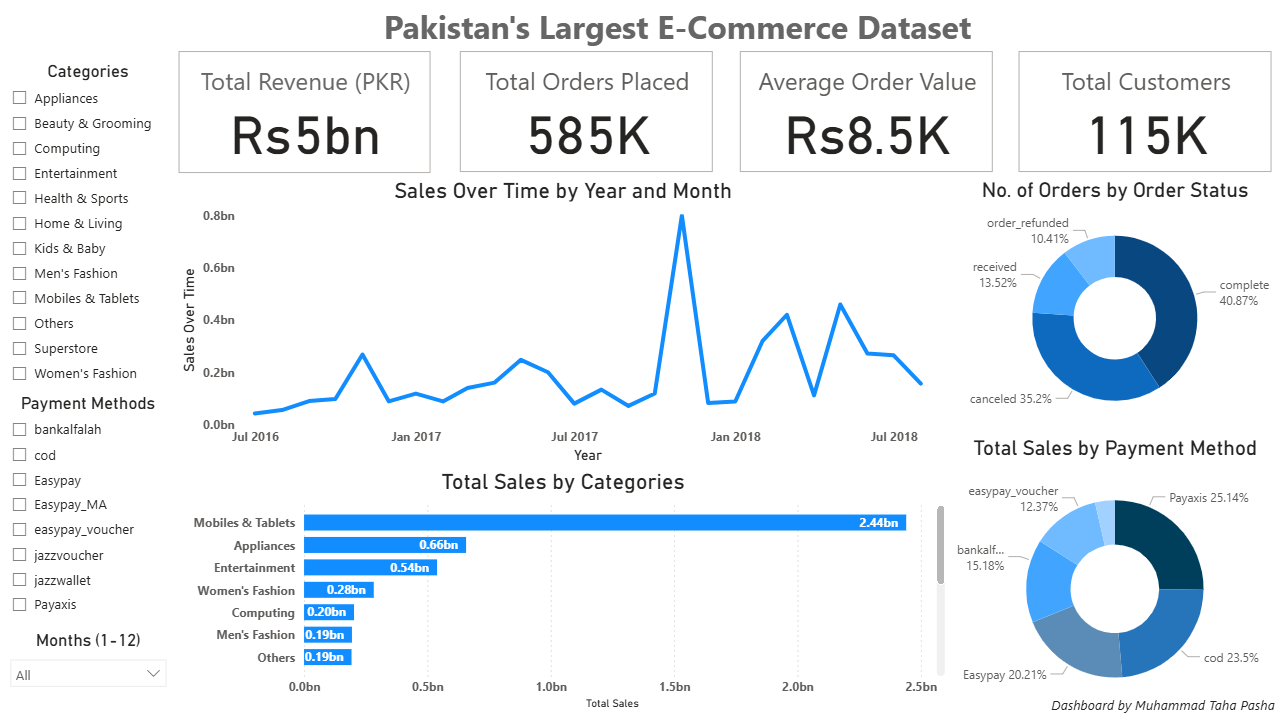

This screenshot's page, from the dashboard's own definition file:
{"tool":"powerbi","page":{"name":"Dashboard","canvas":[1280,720],"ordinal":0},"visuals":[{"type":"cardVisual","fields":{"Data":["Sum(Pakistan Largest Ecommerce Dataset (2).grand_total)"]},"box":[174.3,46.2,262.5,132.5],"z":0},{"type":"cardVisual","fields":{"Data":["CountNonNull(Pakistan Largest Ecommerce Dataset (2).item_id)"]},"box":[454.7,46.1,263,131.5],"z":1000},{"type":"cardVisual","fields":{"Data":["Pakistan Largest Ecommerce Dataset (2).AOV"]},"box":[734.6,46.1,263,131.5],"z":2000},{"type":"cardVisual","fields":{"Data":["Count(Pakistan Largest Ecommerce Dataset (2).Customer ID)"]},"box":[1014.2,46.3,263.3,131.7],"z":3000},{"type":"lineChart","fields":{"Y":["Sum(Pakistan Largest Ecommerce Dataset (2).grand_total)"],"Category":["Pakistan Largest Ecommerce Dataset (2).created_at.Variation.Date Hierarchy.Year","Pakistan Largest Ecommerce Dataset (2).created_at.Variation.Date Hierarchy.Month"]},"box":[176.2,177.5,773.8,291.2],"z":4000},{"type":"clusteredBarChart","fields":{"Category":["Pakistan Largest Ecommerce Dataset (2).category_name_1"],"Y":["Sum(Pakistan Largest Ecommerce Dataset (2).grand_total)"]},"box":[176.2,468.8,773.8,246.2],"z":5000},{"type":"pieChart","fields":{"Category":["Pakistan Largest Ecommerce Dataset (2).payment_method"],"Y":["Sum(Pakistan Largest Ecommerce Dataset (2).grand_total)"]},"box":[950,436.2,330,282.5],"z":6000},{"type":"donutChart","fields":{"Category":["Pakistan Largest Ecommerce Dataset (2).status"],"Y":["CountNonNull(Pakistan Largest Ecommerce Dataset (2).item_id)"]},"box":[950,177.5,330,258.8],"z":7000},{"type":"slicer","title":"Months (1-12)","fields":{"Values":["Pakistan Largest Ecommerce Dataset (2).Month"]},"box":[0,629.8,176.1,90.5],"z":8000},{"type":"slicer","title":"Payment Methods","fields":{"Values":["Pakistan Largest Ecommerce Dataset (2).payment_method"]},"box":[0,392.1,176.1,237.7],"z":9000},{"type":"slicer","title":"Categories","fields":{"Values":["Pakistan Largest Ecommerce Dataset (2).category_name_1"]},"box":[0,61.5,176.1,330.6],"z":10000},{"type":"textbox","box":[288.8,0,777.5,61.2],"z":11000},{"type":"textbox","box":[1032.5,691.2,247.5,28.8],"z":11001}]}

Visuals, with their boxes in screenshot pixels (x1, y1, x2, y2), scaled from the page's 1280x720 canvas onto the 1279x717 screenshot:
cardVisual - Sum(Pakistan Largest Ecommerce Dataset (2).grand_total): Rect(174, 46, 436, 178)
cardVisual - CountNonNull(Pakistan Largest Ecommerce Dataset (2).item_id): Rect(454, 46, 717, 177)
cardVisual - Pakistan Largest Ecommerce Dataset (2).AOV: Rect(734, 46, 997, 177)
cardVisual - Count(Pakistan Largest Ecommerce Dataset (2).Customer ID): Rect(1013, 46, 1277, 177)
lineChart - Sum(Pakistan Largest Ecommerce Dataset (2).grand_total) x Pakistan Largest Ecommerce Dataset (2).created_at.Variation.Date Hierarchy.Year: Rect(176, 177, 949, 467)
clusteredBarChart - Pakistan Largest Ecommerce Dataset (2).category_name_1 x Sum(Pakistan Largest Ecommerce Dataset (2).grand_total): Rect(176, 467, 949, 712)
pieChart - Pakistan Largest Ecommerce Dataset (2).payment_method x Sum(Pakistan Largest Ecommerce Dataset (2).grand_total): Rect(949, 434, 1278, 716)
donutChart - Pakistan Largest Ecommerce Dataset (2).status x CountNonNull(Pakistan Largest Ecommerce Dataset (2).item_id): Rect(949, 177, 1278, 434)
"Months (1-12)" slicer: Rect(0, 627, 176, 716)
"Payment Methods" slicer: Rect(0, 390, 176, 627)
"Categories" slicer: Rect(0, 61, 176, 390)
textbox: Rect(289, 0, 1065, 61)
textbox: Rect(1032, 688, 1278, 716)
